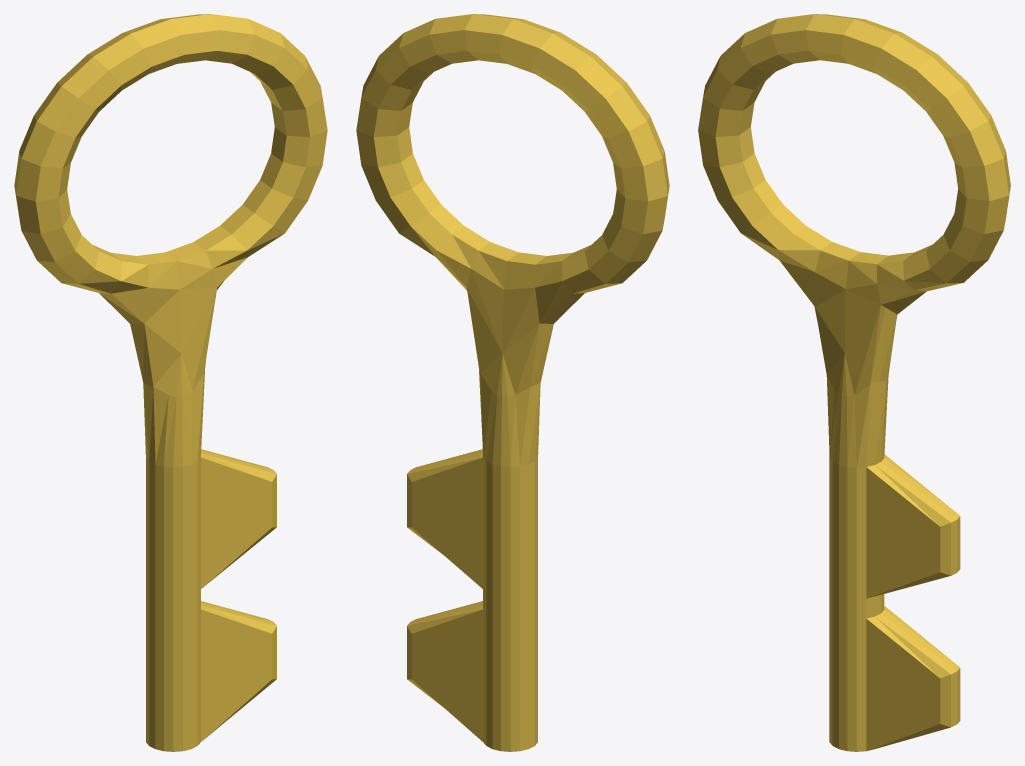
The model's file is KeyNew.FBX.
3 renders of one model, left to right at view 1: azimuth 30°, elevation 25°; view 2: azimuth 150°, elevation 25°; view 3: azimuth 330°, elevation 25°, orthographic.
Parts seen in each view (by area): view 1: Key; view 2: Key; view 3: Key.
Part boxes in pixels (x1,y1,x2,y2): Key: (14,14,327,751); Key: (356,14,669,751); Key: (698,14,1010,751).
Size of the model in its own units: 5.41 by 0.8322 by 12.06.
Materials: 1 (1 with a texture image).
